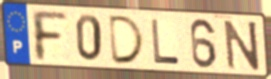0: (74, 13, 103, 63)
6: (190, 17, 218, 71)
D: (107, 14, 147, 66)
F: (28, 8, 70, 63)
L: (149, 17, 182, 66)
N: (222, 19, 262, 72)
